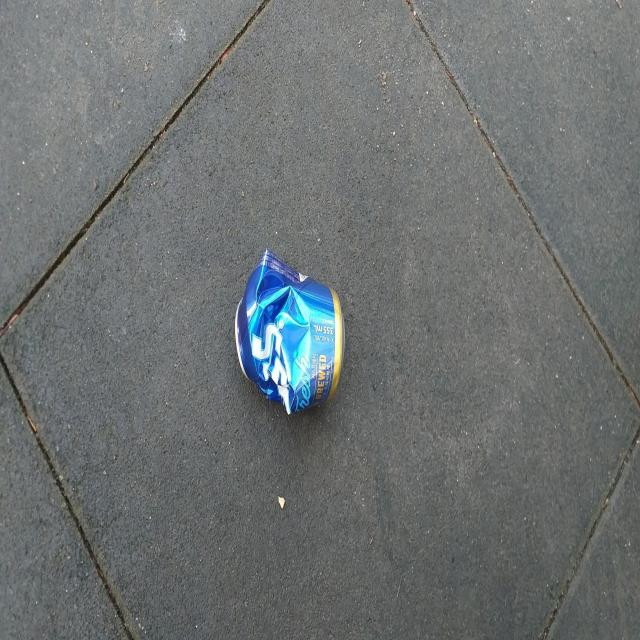can: (235, 248, 345, 414)
